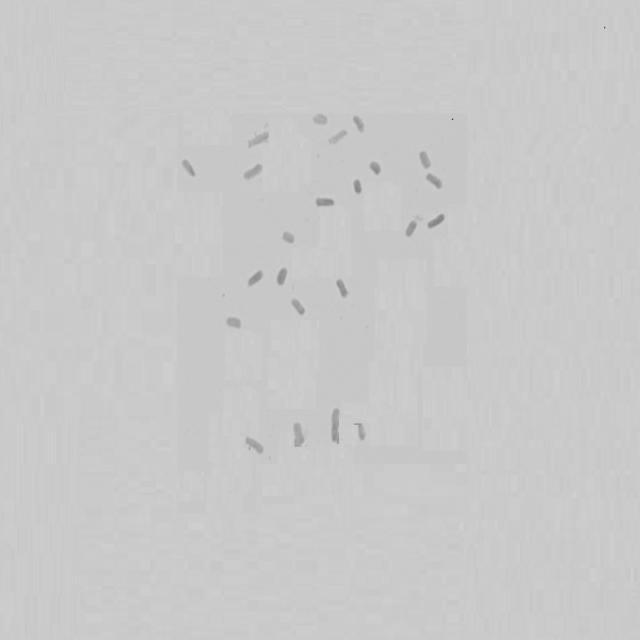E-coli: (246, 125, 272, 151), (242, 162, 264, 188), (244, 433, 264, 461), (326, 126, 348, 150), (426, 211, 446, 234), (224, 314, 244, 336), (245, 267, 265, 289), (181, 159, 199, 182), (337, 275, 353, 300), (291, 423, 305, 451), (330, 408, 340, 444), (404, 219, 420, 241), (417, 148, 433, 170), (353, 419, 368, 442), (280, 229, 298, 247), (313, 109, 331, 127), (427, 173, 445, 191), (293, 296, 307, 318), (315, 196, 335, 211), (370, 154, 383, 177), (276, 266, 288, 289), (355, 111, 367, 133), (352, 174, 364, 196)
